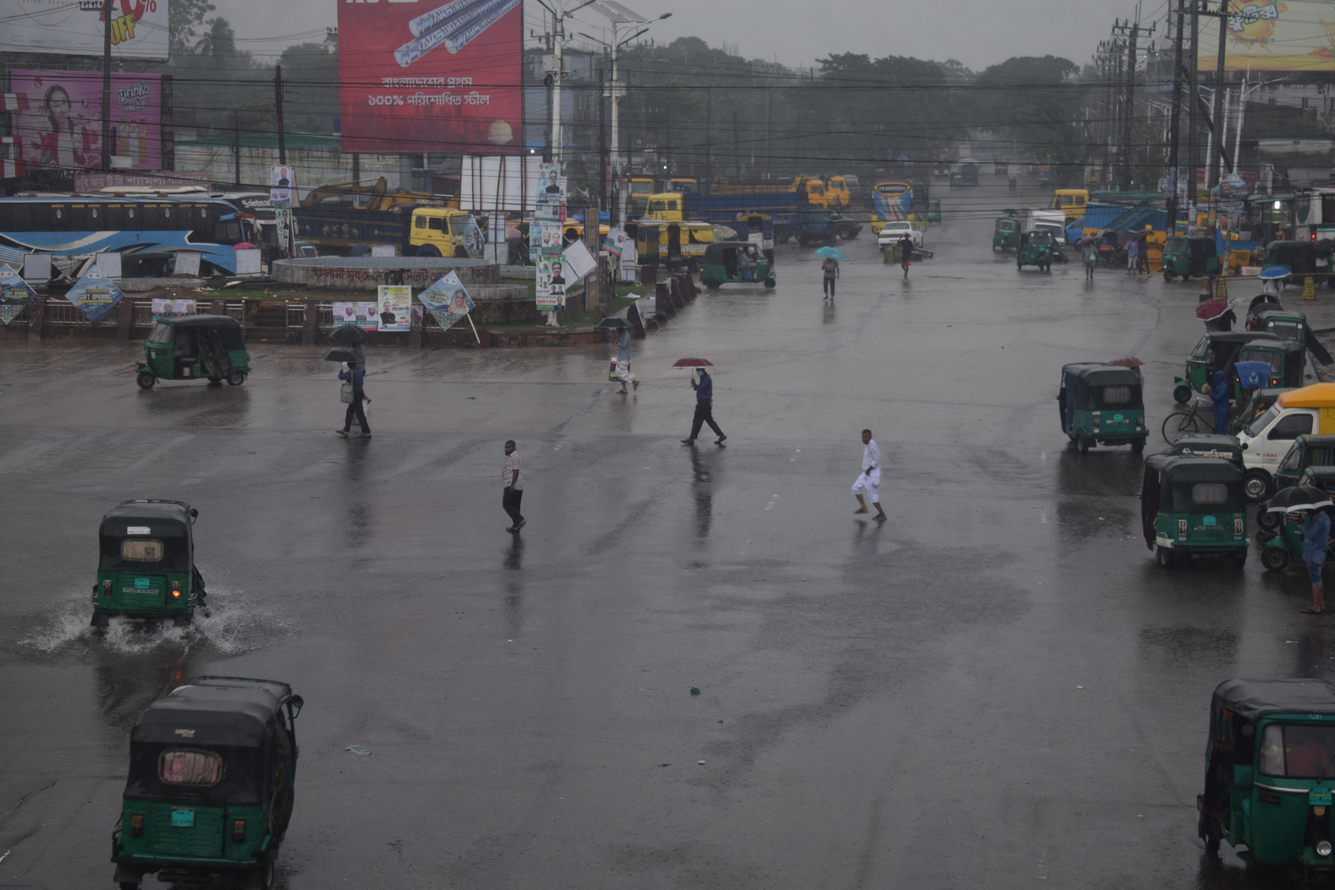Bus: (0, 172, 278, 330)
Car: (862, 213, 932, 288)
Truck: (289, 174, 478, 288), (619, 174, 819, 260)
